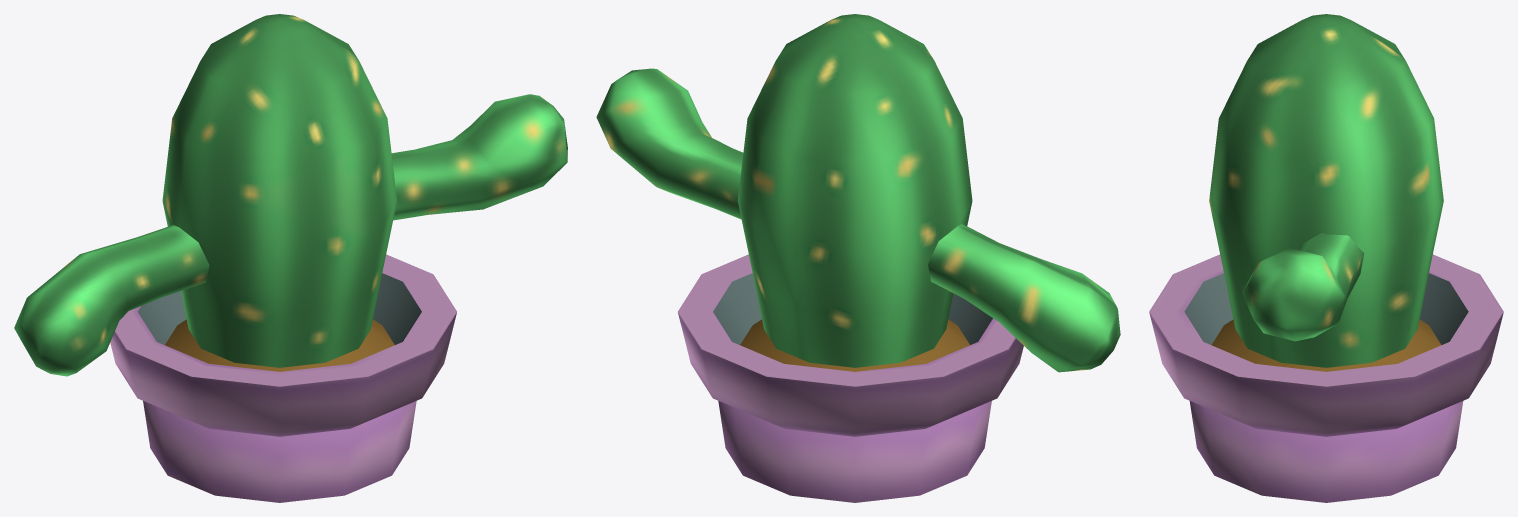
File: cactus_evelyn.fbx
3 renders of one model, left to right at view 1: azimuth 30°, elevation 25°; view 2: azimuth 150°, elevation 25°; view 3: azimuth 270°, elevation 25°, orthographic.
Parts seen in each view (by area): view 1: cactus; view 2: cactus; view 3: cactus.
Boxes of the visible parts, <box> form: cactus: <box>14,14,567,502</box>; cactus: <box>596,14,1120,502</box>; cactus: <box>1149,14,1503,502</box>.
Size of the model in its own units: 64.64 by 50.36 by 37.76.
1 material, 1 textured.
